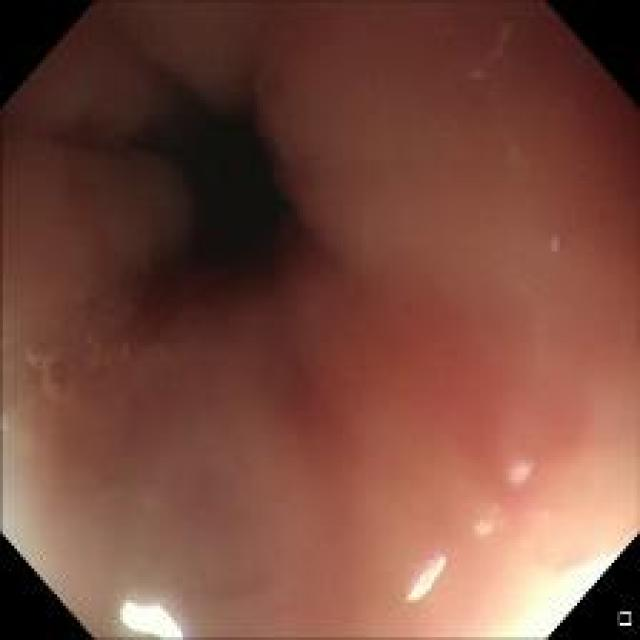bubbles: (40, 346, 75, 396), (80, 325, 114, 358)
color misalignment: (469, 20, 515, 80), (546, 230, 562, 258)
contrast: (94, 66, 302, 321)
saturation: (485, 558, 610, 636)
specularity: (114, 594, 194, 639), (402, 551, 451, 610)
